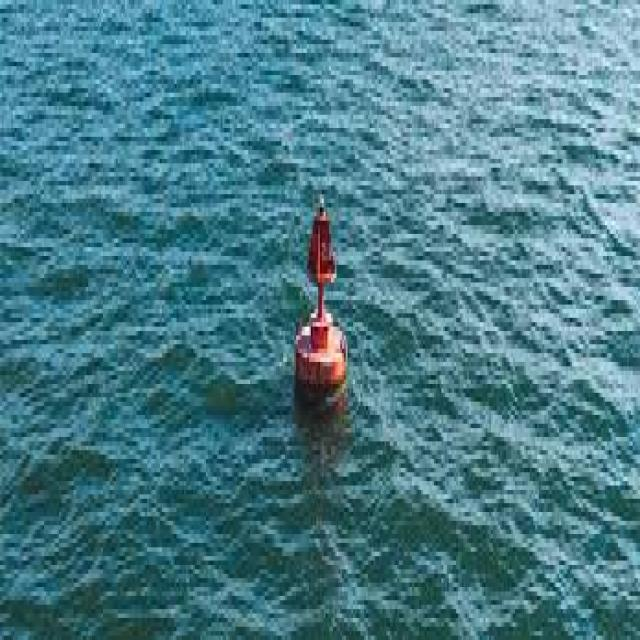2.1 lateral mark -P-: (289, 180, 352, 411)
